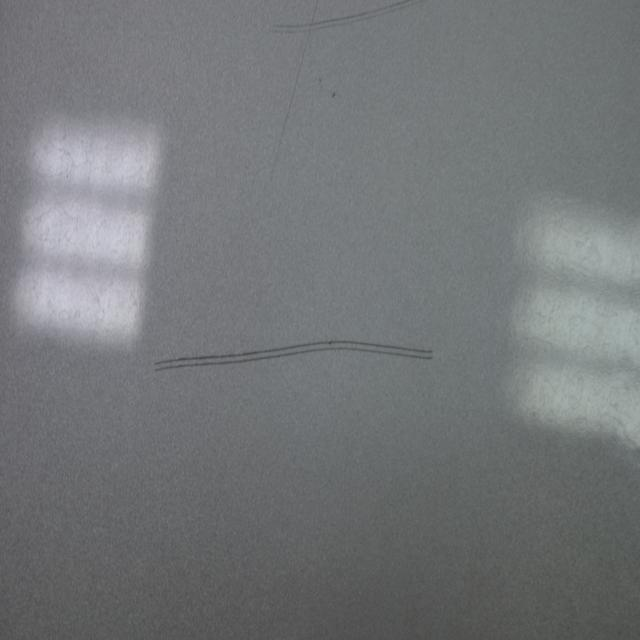dirt: (330, 89, 338, 101), (317, 74, 323, 84)
scratch: (149, 336, 435, 380), (265, 0, 321, 186), (267, 0, 419, 41)
water marks: (26, 139, 82, 252), (19, 258, 90, 347), (84, 218, 128, 327)
